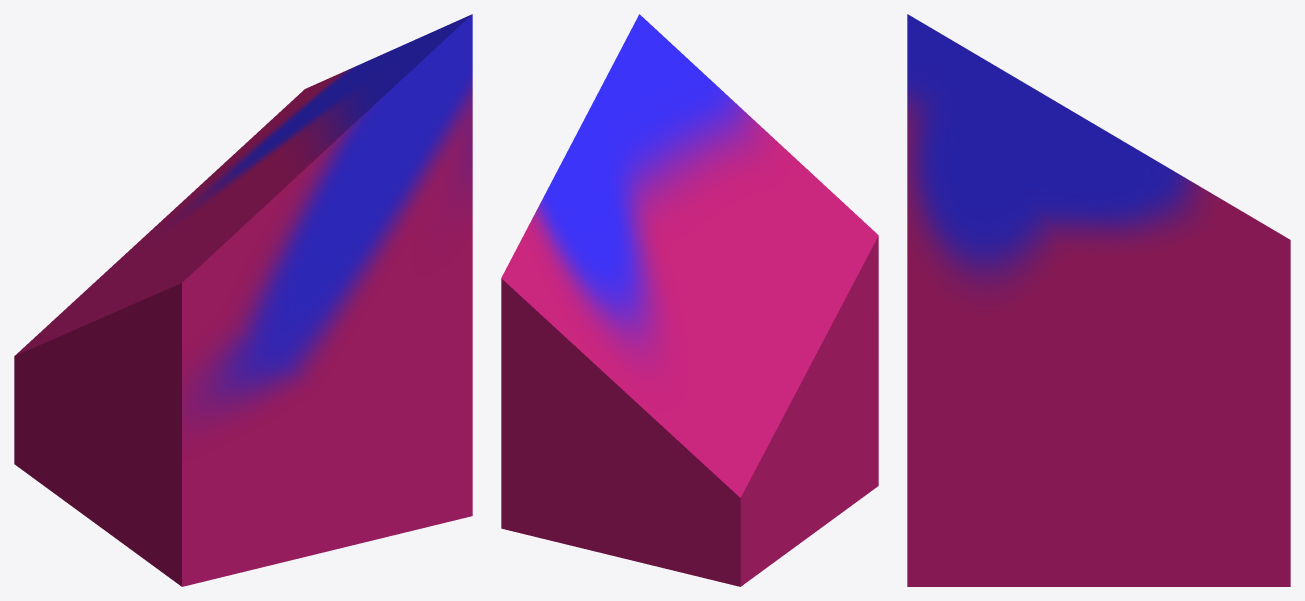
3 views of the same model, side by side, from view 1: azimuth 30°, elevation 25°; view 2: azimuth 150°, elevation 25°; view 3: azimuth 270°, elevation 25° (orthographic). The views are drawn at different scales.
Parts seen in each view (by area): view 1: Cube; view 2: Cube; view 3: Cube.
Boxes of the visible parts, <box> form: Cube: <box>14,14,472,586</box>; Cube: <box>501,14,878,586</box>; Cube: <box>907,14,1290,586</box>.
Size of the model in its own units: 2 by 3.3 by 2.
Materials: 1 (1 with a texture image).
